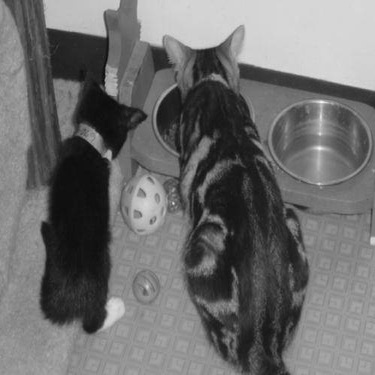cat: (150, 18, 309, 373), (30, 66, 147, 336)
